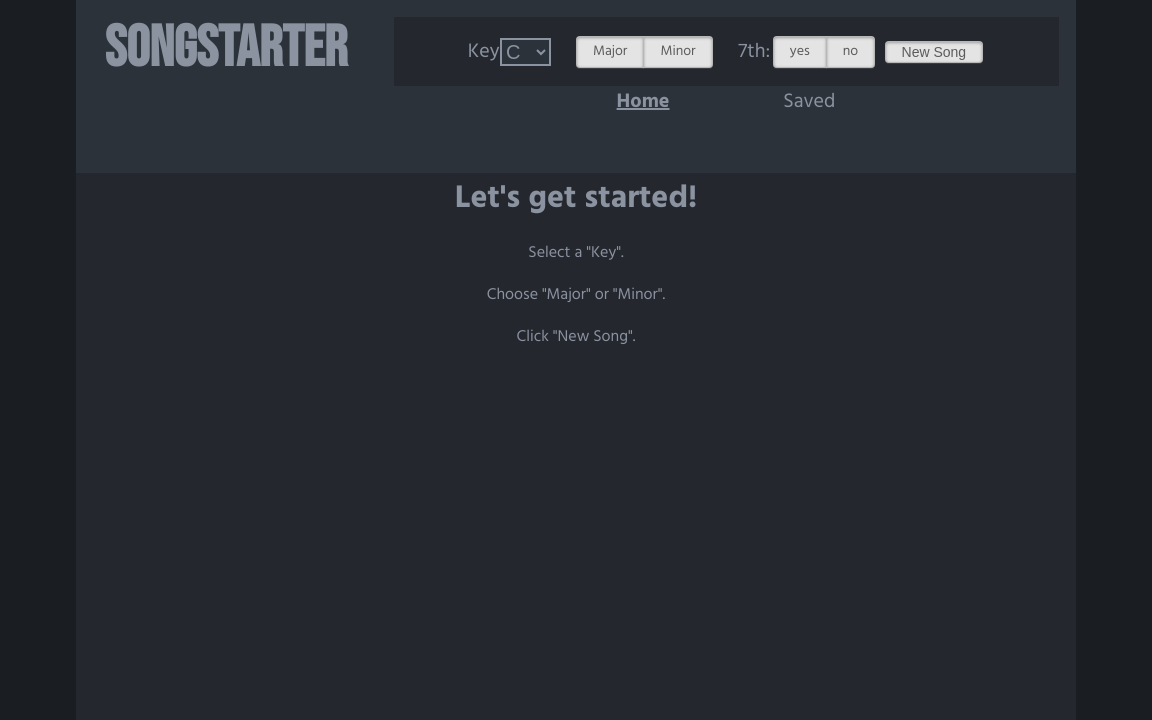
Test: Home Page › Song display › should display a song after "New Song" is clicked
Click the button "New Song": x=935, y=52 [885,41,984,63]
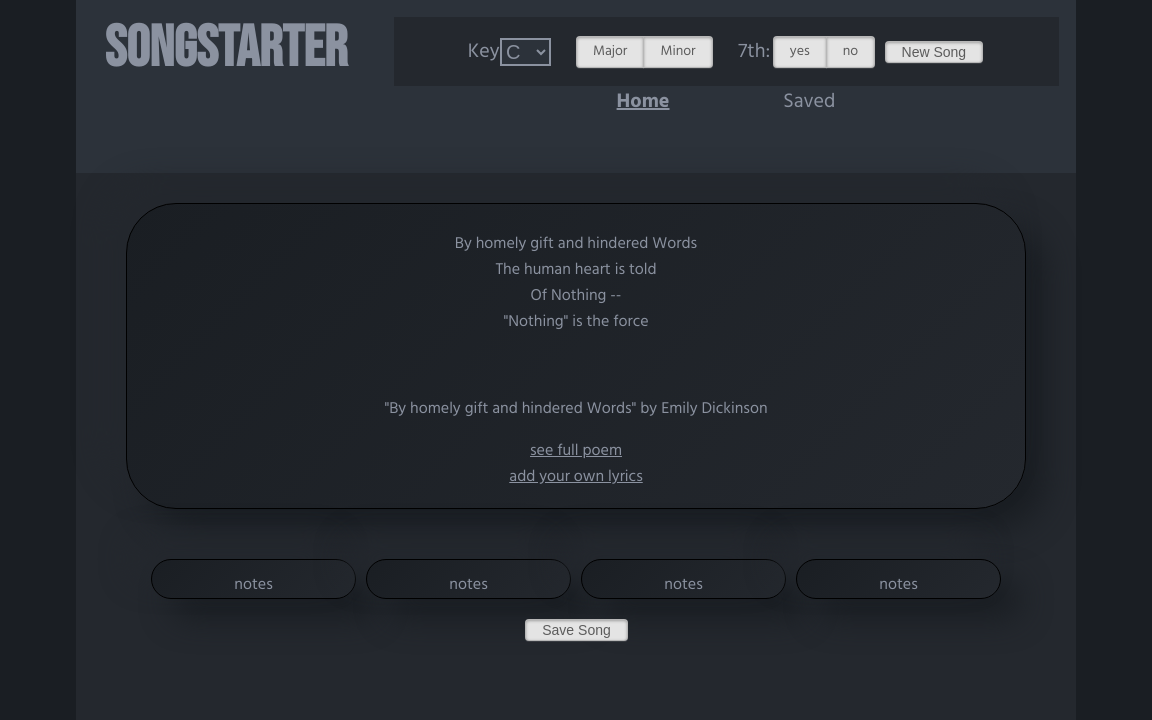
Expected: the link "see full poem" is shown, [530,438,622,464]
